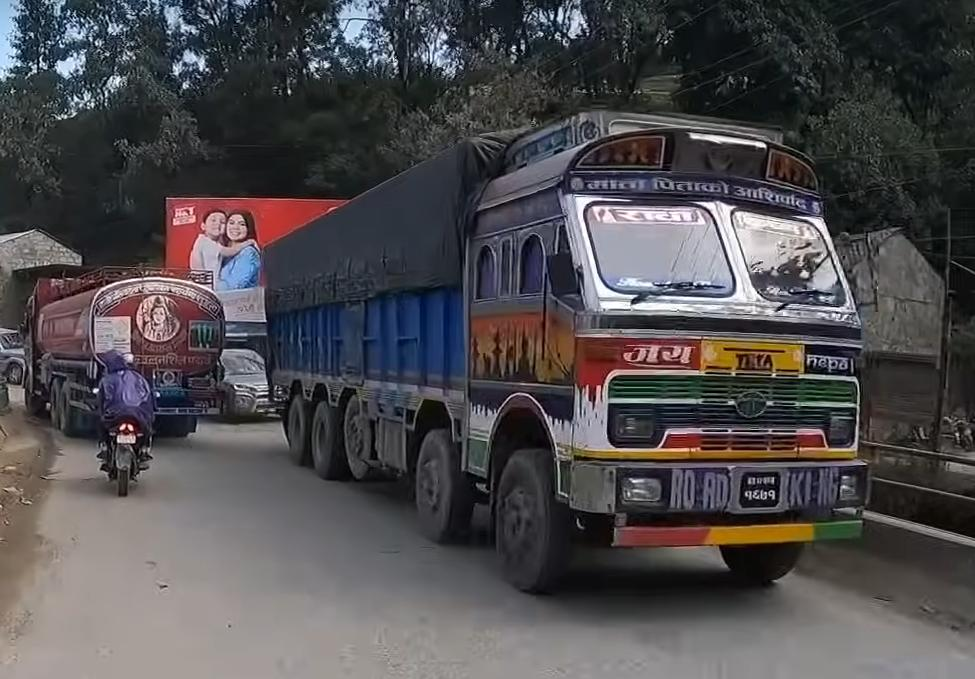bike: (97, 417, 152, 496)
car: (216, 347, 281, 418), (0, 326, 26, 385)
truck: (258, 108, 871, 594), (22, 262, 228, 438)
